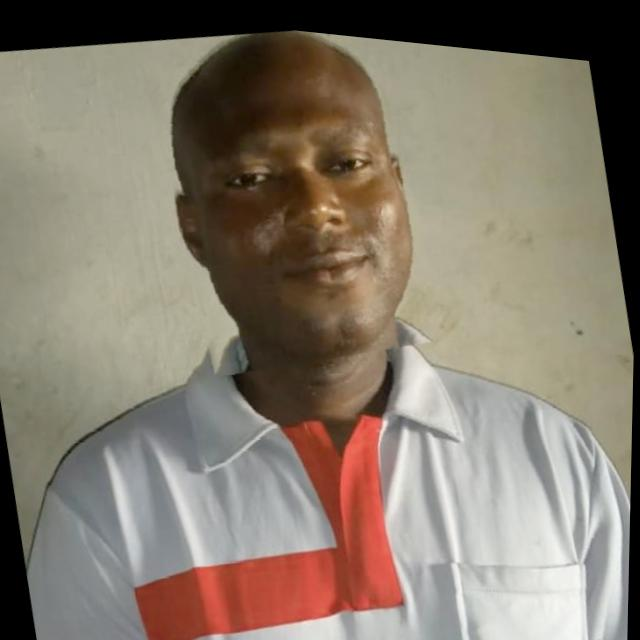happy: (137, 12, 448, 388)
